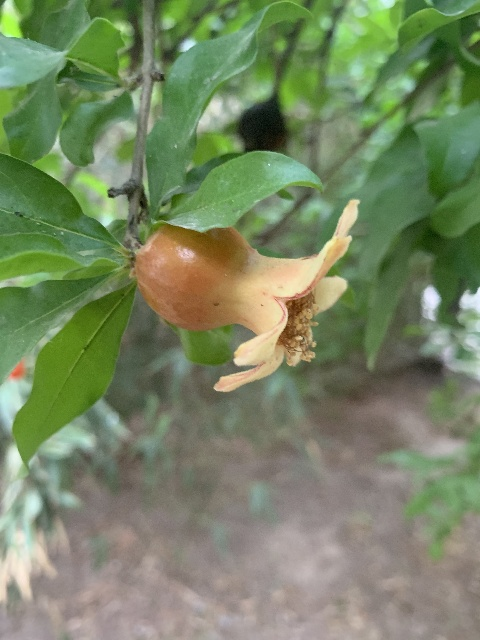early-fruit: (135, 197, 361, 393)
